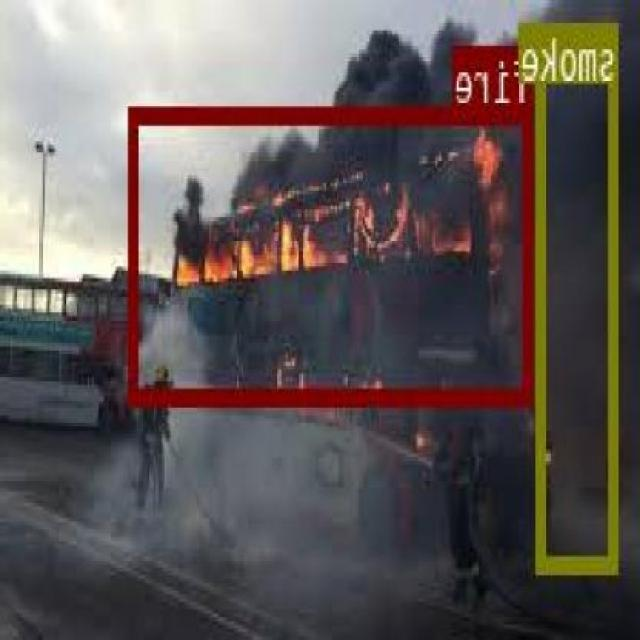Fire: (132, 104, 536, 403)
Smoke: (539, 21, 621, 568)
